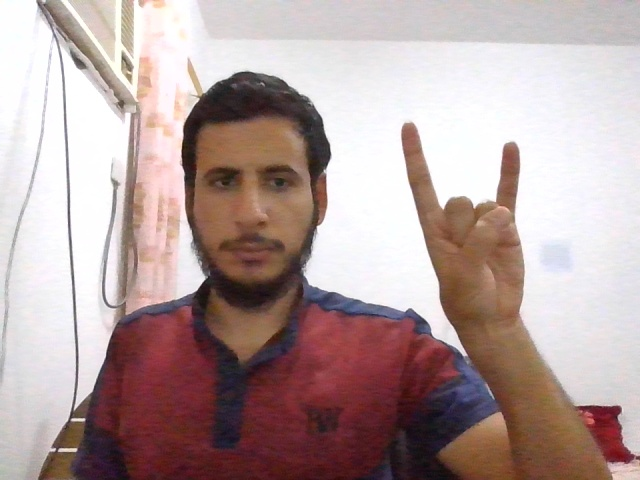Two: (402, 122, 526, 322)
